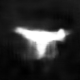plane: (12, 25, 71, 62)
